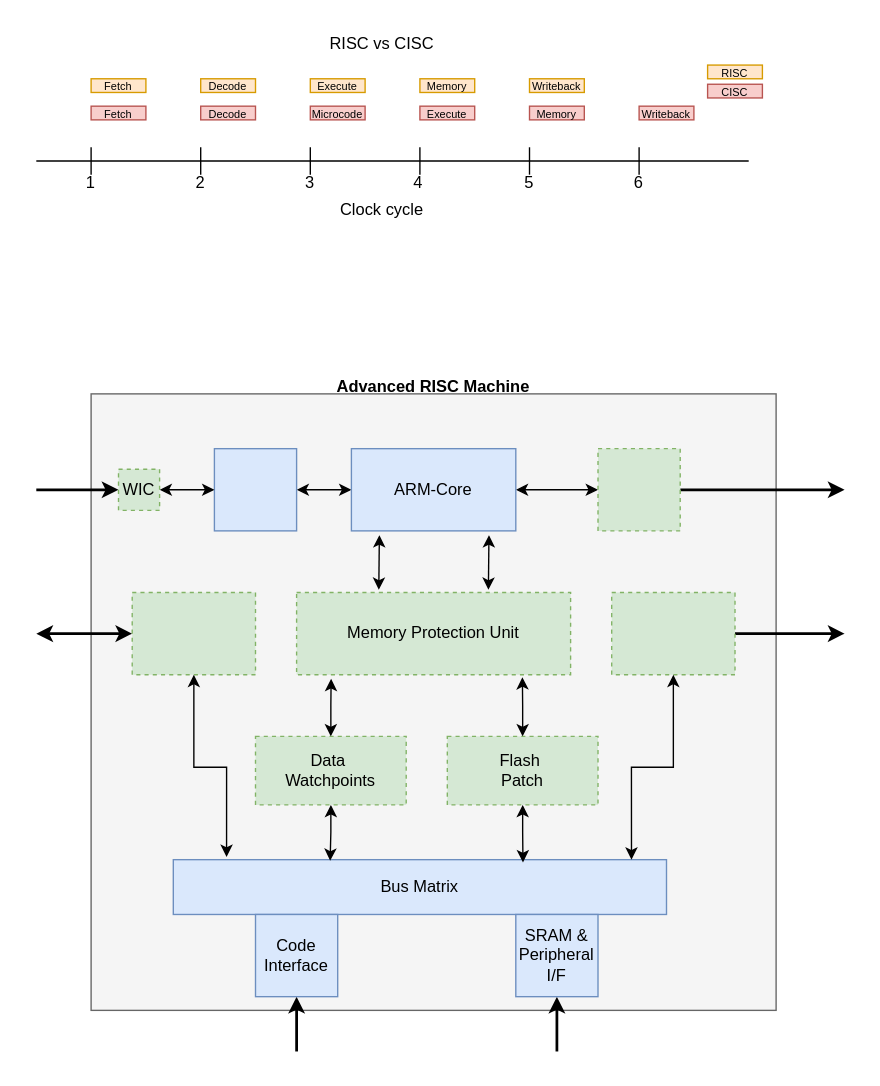
Image size: 880x1086. Some labels were removed from this diagram. Each missing label, with the centre of its shape:
"DAP" belongs at (x=193, y=633).
"ETM" belongs at (x=638, y=489).
"NVIC" belongs at (x=255, y=489).
"Serial Wire Viewer" belongs at (x=672, y=633).
